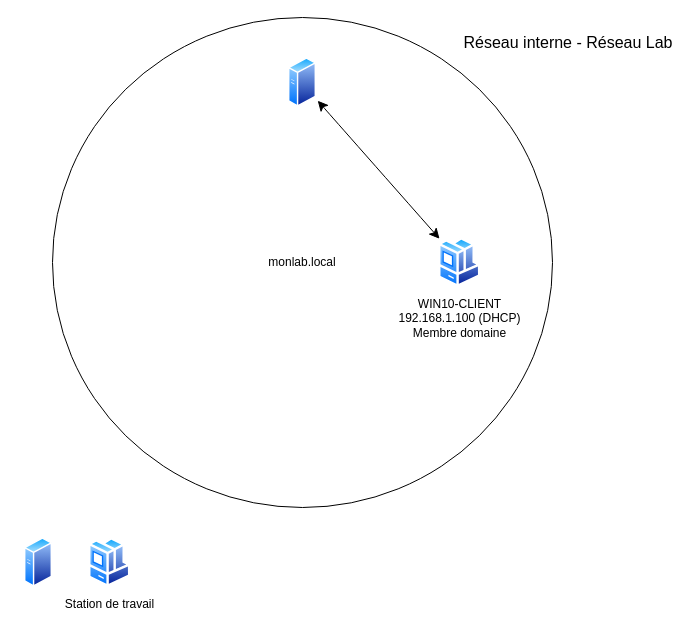
The diagram is 695 pixels wide and 644 high, and some of its shapes have lost their labels. Each missing label, with the centre of its shape:
"Serveur" goes at point 38,562.
"SRV-DC01 192.168.1.1 AD DS/DNS/DHCP" goes at point 302,82.
